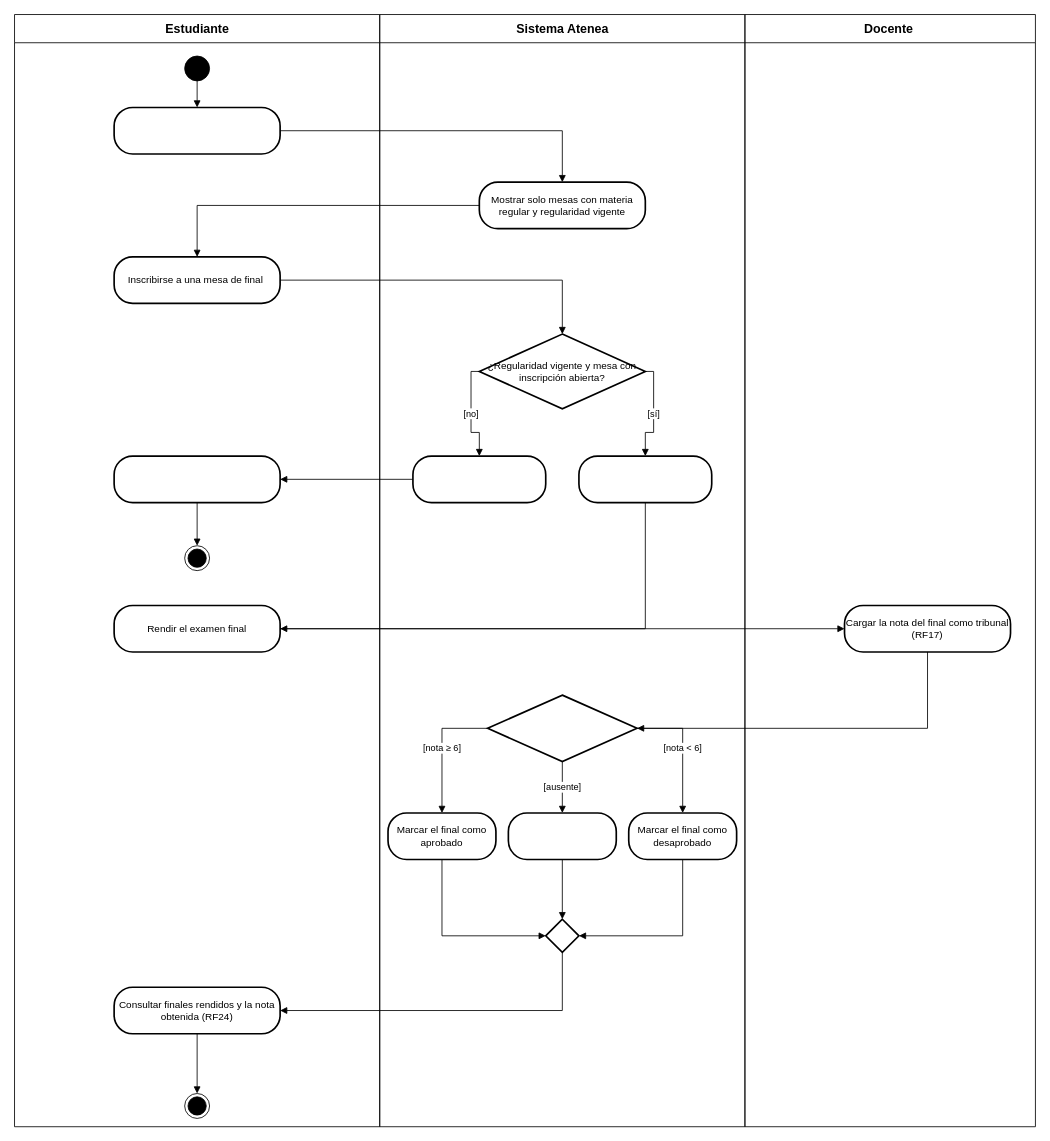
The diagram is 1050 pixels wide and 1141 high, and some of its shapes have lost their labels. Here are the shapes that lost their labels. From the top down, the centre of each, then its label:
[197,130]: Consultar las mesas de final disponibles
[197,479]: Ver el motivo del rechazo
[479,479]: Rechazar e informar el motivo
[645,479]: Registrar la inscripción
[561,728]: ¿Cómo terminó el examen? (RN06)
[562,836]: Registrar ausente
